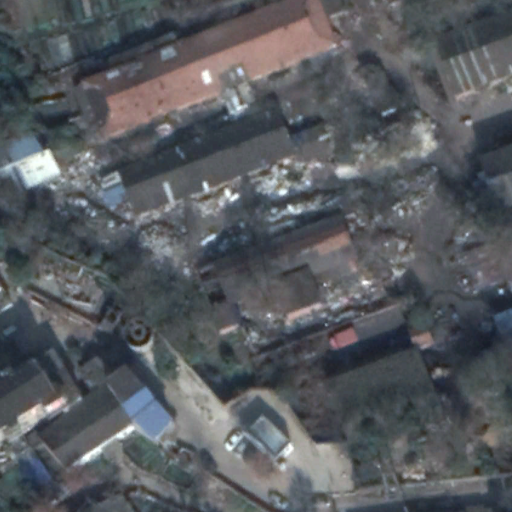msw: (138, 157, 333, 267)
